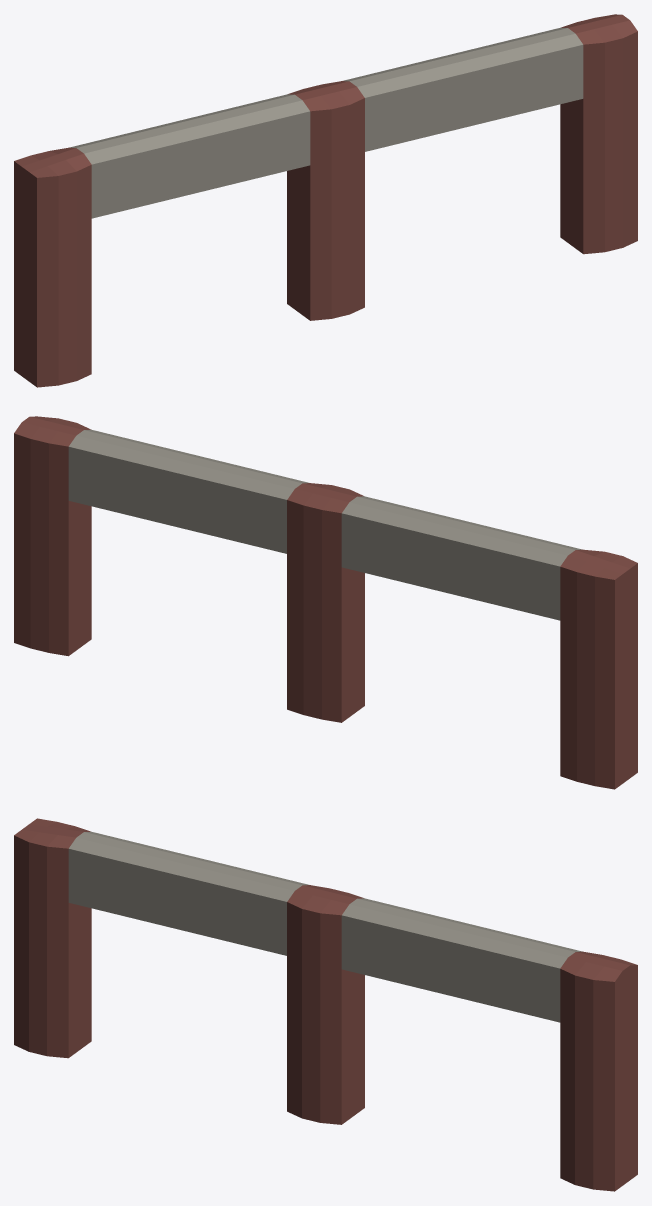
File: ParkArchway.fbx
The picture shows the model from 3 angles, top to bottom: view 1: azimuth 30°, elevation 25°; view 2: azimuth 150°, elevation 25°; view 3: azimuth 330°, elevation 25°; orthographic projection.
Visible parts, largest first — view 1: Cube; view 2: Cube; view 3: Cube.
Boxes of the visible parts, <box> form: Cube: <box>14,14,637,387</box>; Cube: <box>14,416,637,789</box>; Cube: <box>14,818,637,1191</box>.
Bounding box in the file's own units: 1500 × 513 × 121.
